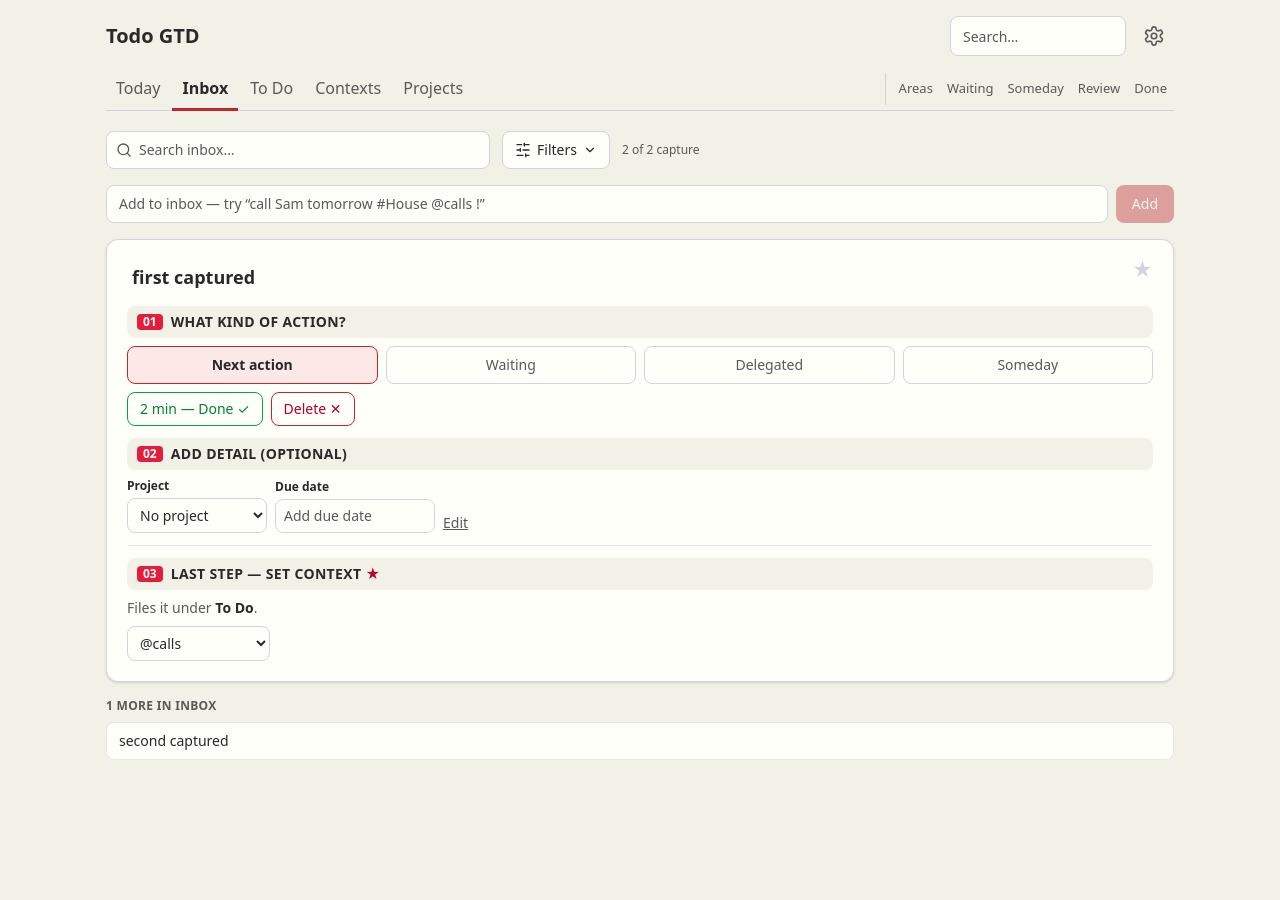
it: InboxPage — undoing a filing › gives the restored item a working card even when the undo outran the refetch
Select "@calls" in the dropdown named "Set context and file this todo": (198, 644) [127,626,270,661]
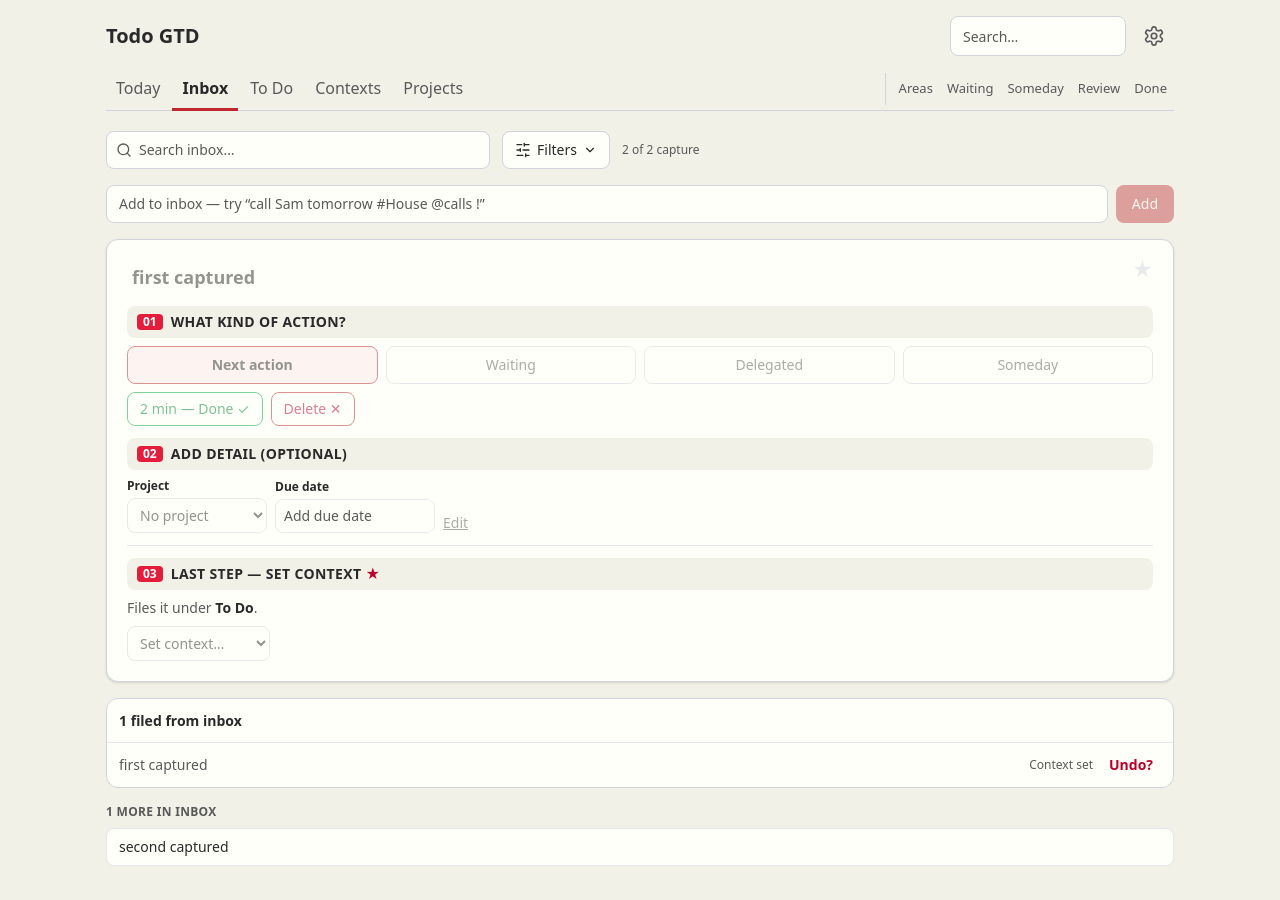
Check: the dropdown named "Set context and file this todo" is disabled, box [127,626,270,661]
Click the button "Undo?": click(1131, 765) [1101,751,1161,779]
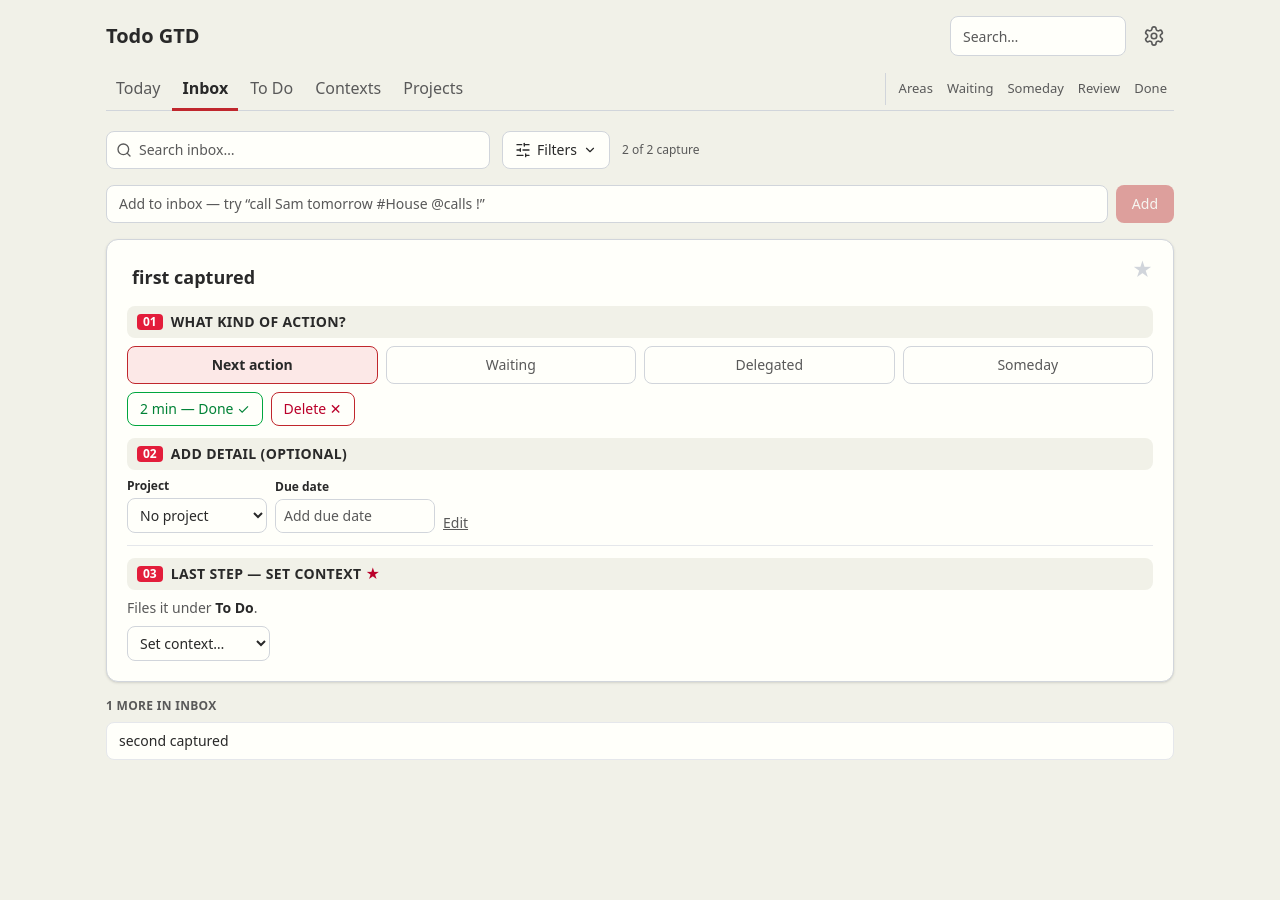
Check: the button titled "Click to rename" reads "first captured", box [127,260,260,294]
Check: the dropdown named "Set context and file this todo" is enabled, box [127,626,270,661]
